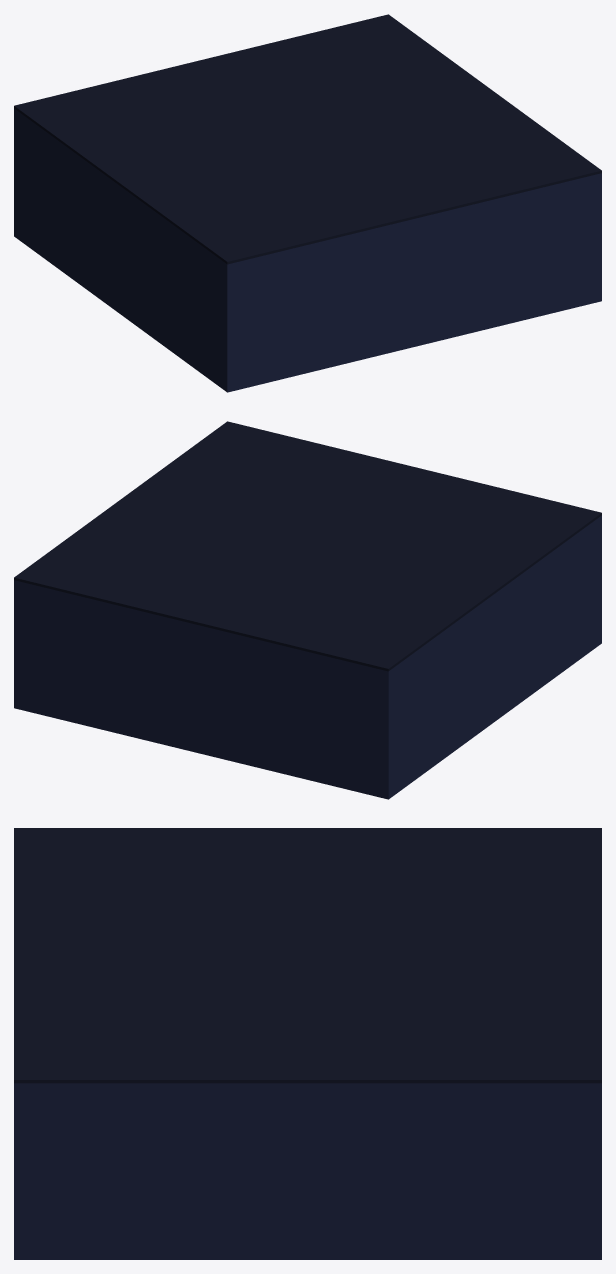
Rendered from room.glb.
The picture shows the model from 3 angles, top to bottom: view 1: azimuth 30°, elevation 25°; view 2: azimuth 150°, elevation 25°; view 3: azimuth 270°, elevation 25°; orthographic projection. The views are drawn at different scales.
Visible parts, largest first — view 1: Ceiling, Wall_South, Wall_West; view 2: Ceiling, Wall_North, Wall_West, Wall_East; view 3: Ceiling, Wall_East.
Part boxes in pixels (x1,y1,x2,y2): Ceiling: [14, 14, 601, 264]; Wall_South: [225, 173, 601, 392]; Wall_West: [16, 110, 225, 390]; Ceiling: [14, 421, 601, 671]; Wall_North: [14, 581, 390, 799]; Wall_West: [385, 517, 599, 799]; Wall_East: [14, 580, 17, 708]; Ceiling: [14, 828, 601, 1083]; Wall_East: [14, 1083, 601, 1259].
Size of the model in its own units: 30.6 by 10.3 by 30.2.
